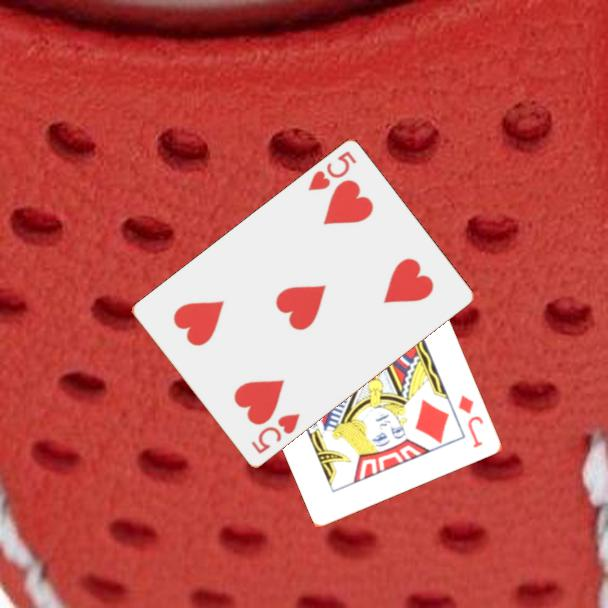d11: (455, 391, 487, 451)
h05: (247, 410, 303, 457), (304, 147, 360, 194)
